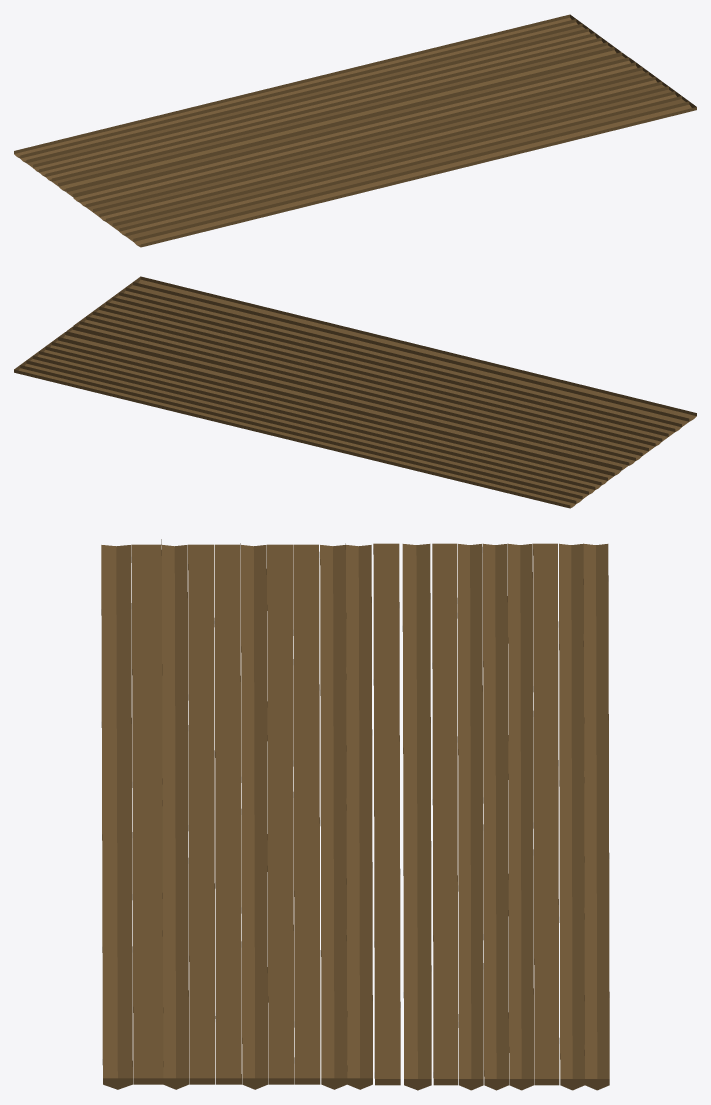
The model's file is EA03_Village_Hut_Ceiling_01e.glb.
3 views of the same model, one above another, from view 1: azimuth 30°, elevation 25°; view 2: azimuth 150°, elevation 25°; view 3: azimuth 270°, elevation 25° (orthographic). The views are drawn at different scales.
Visible parts, largest first — view 1: EA03_Village_Hut_Ceiling_01e; view 2: EA03_Village_Hut_Ceiling_01e; view 3: EA03_Village_Hut_Ceiling_01e.
Boxes of the visible parts, x1,y1,x2,y2 form: EA03_Village_Hut_Ceiling_01e: (14,14,696,247); EA03_Village_Hut_Ceiling_01e: (14,276,696,508); EA03_Village_Hut_Ceiling_01e: (101,539,609,1090).
Bounding box in the file's own units: 19.28 × 0.2022 × 7.63.
1 material, 1 textured.
